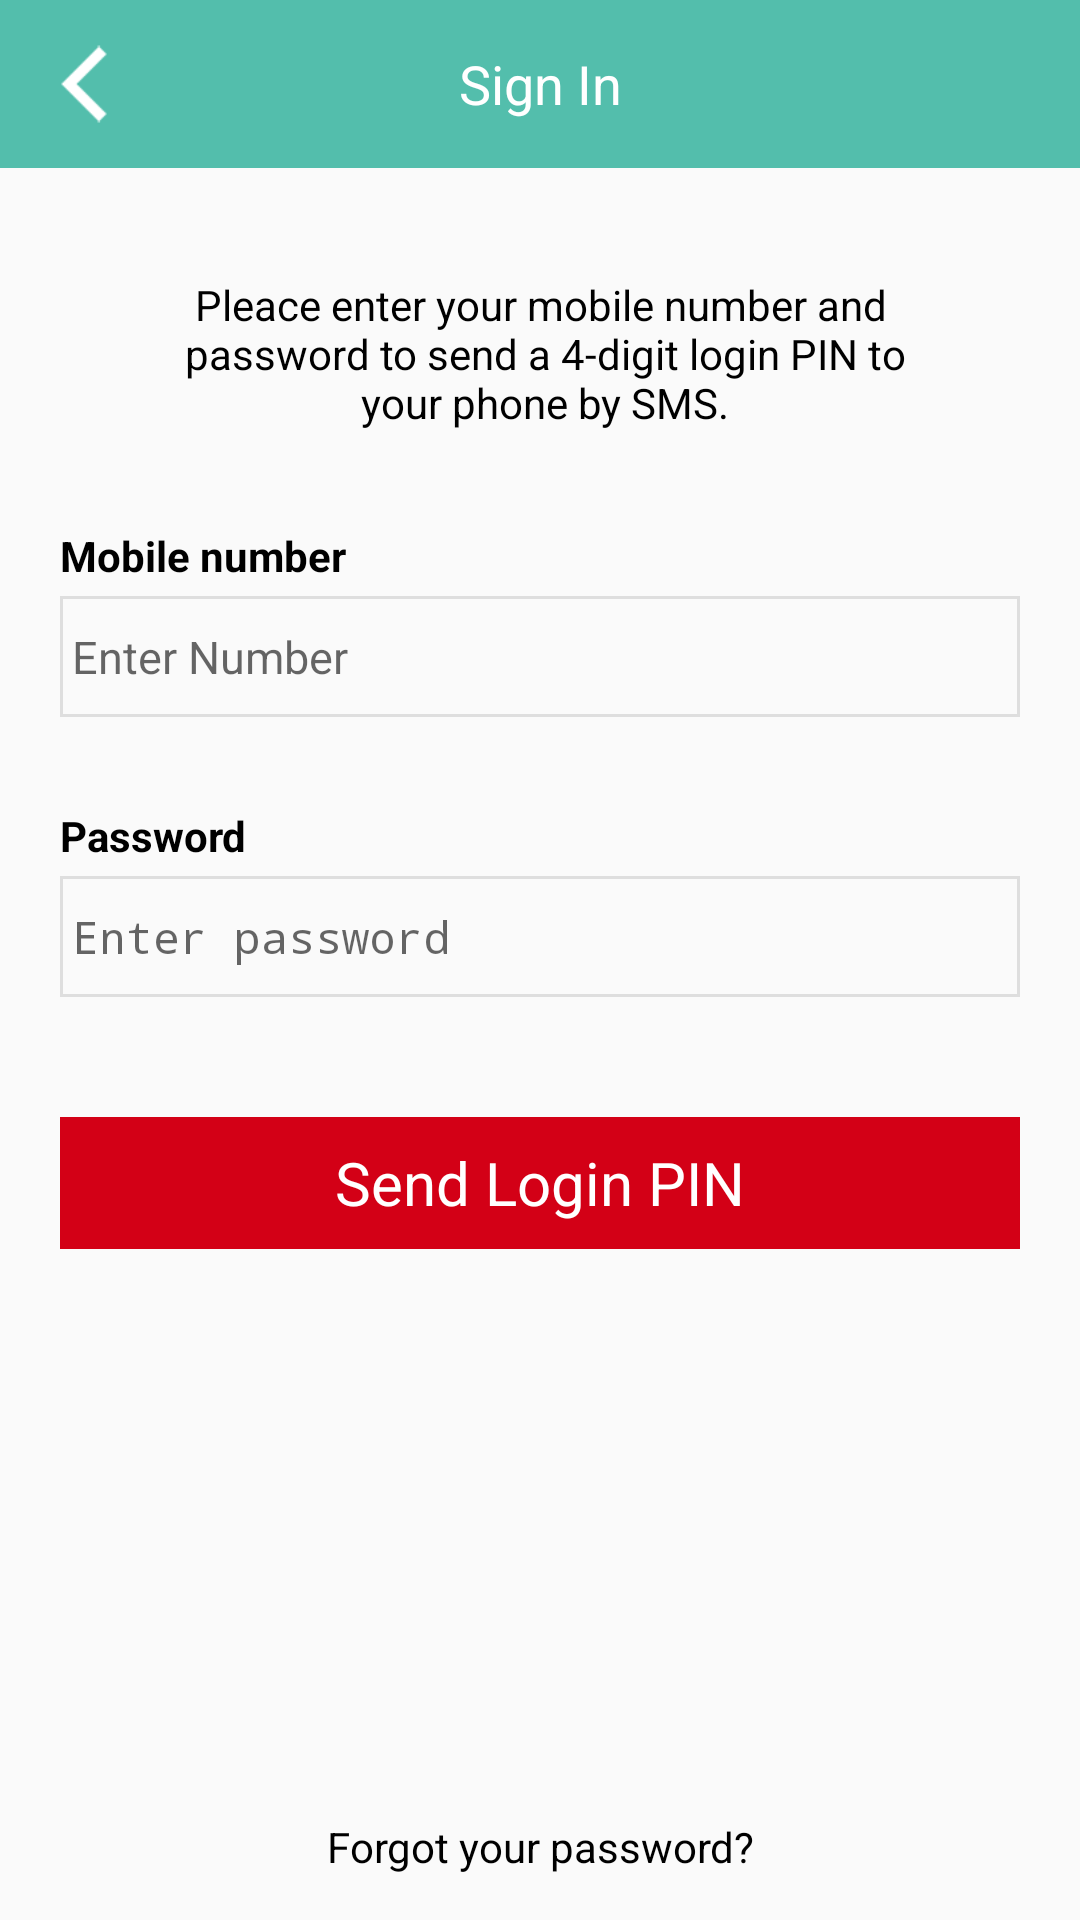

Icons on this 1080w x 1920h Android screen, each with the point to tap as [x,y]:
back arrow: [84,84]
